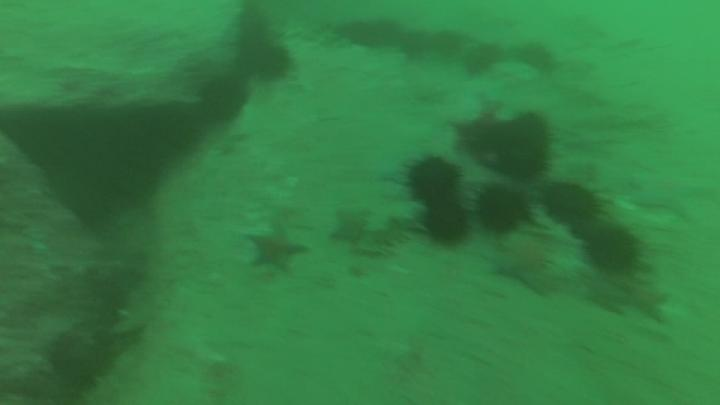echinus: (495, 117, 552, 183), (583, 225, 644, 271), (544, 180, 599, 227), (411, 158, 462, 201), (479, 185, 525, 231), (201, 75, 245, 119), (426, 202, 470, 242), (253, 46, 292, 80), (514, 42, 552, 69), (370, 17, 401, 45), (396, 26, 428, 53), (346, 20, 373, 46), (472, 43, 502, 65), (434, 30, 461, 54)
holothurian: (354, 216, 413, 255)
starfish: (633, 166, 710, 226), (486, 244, 553, 290), (247, 227, 308, 271), (330, 202, 375, 244), (621, 284, 670, 318), (585, 279, 621, 315)
